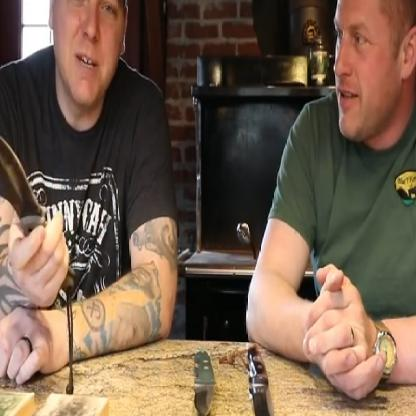knife: (0, 95, 68, 300)
